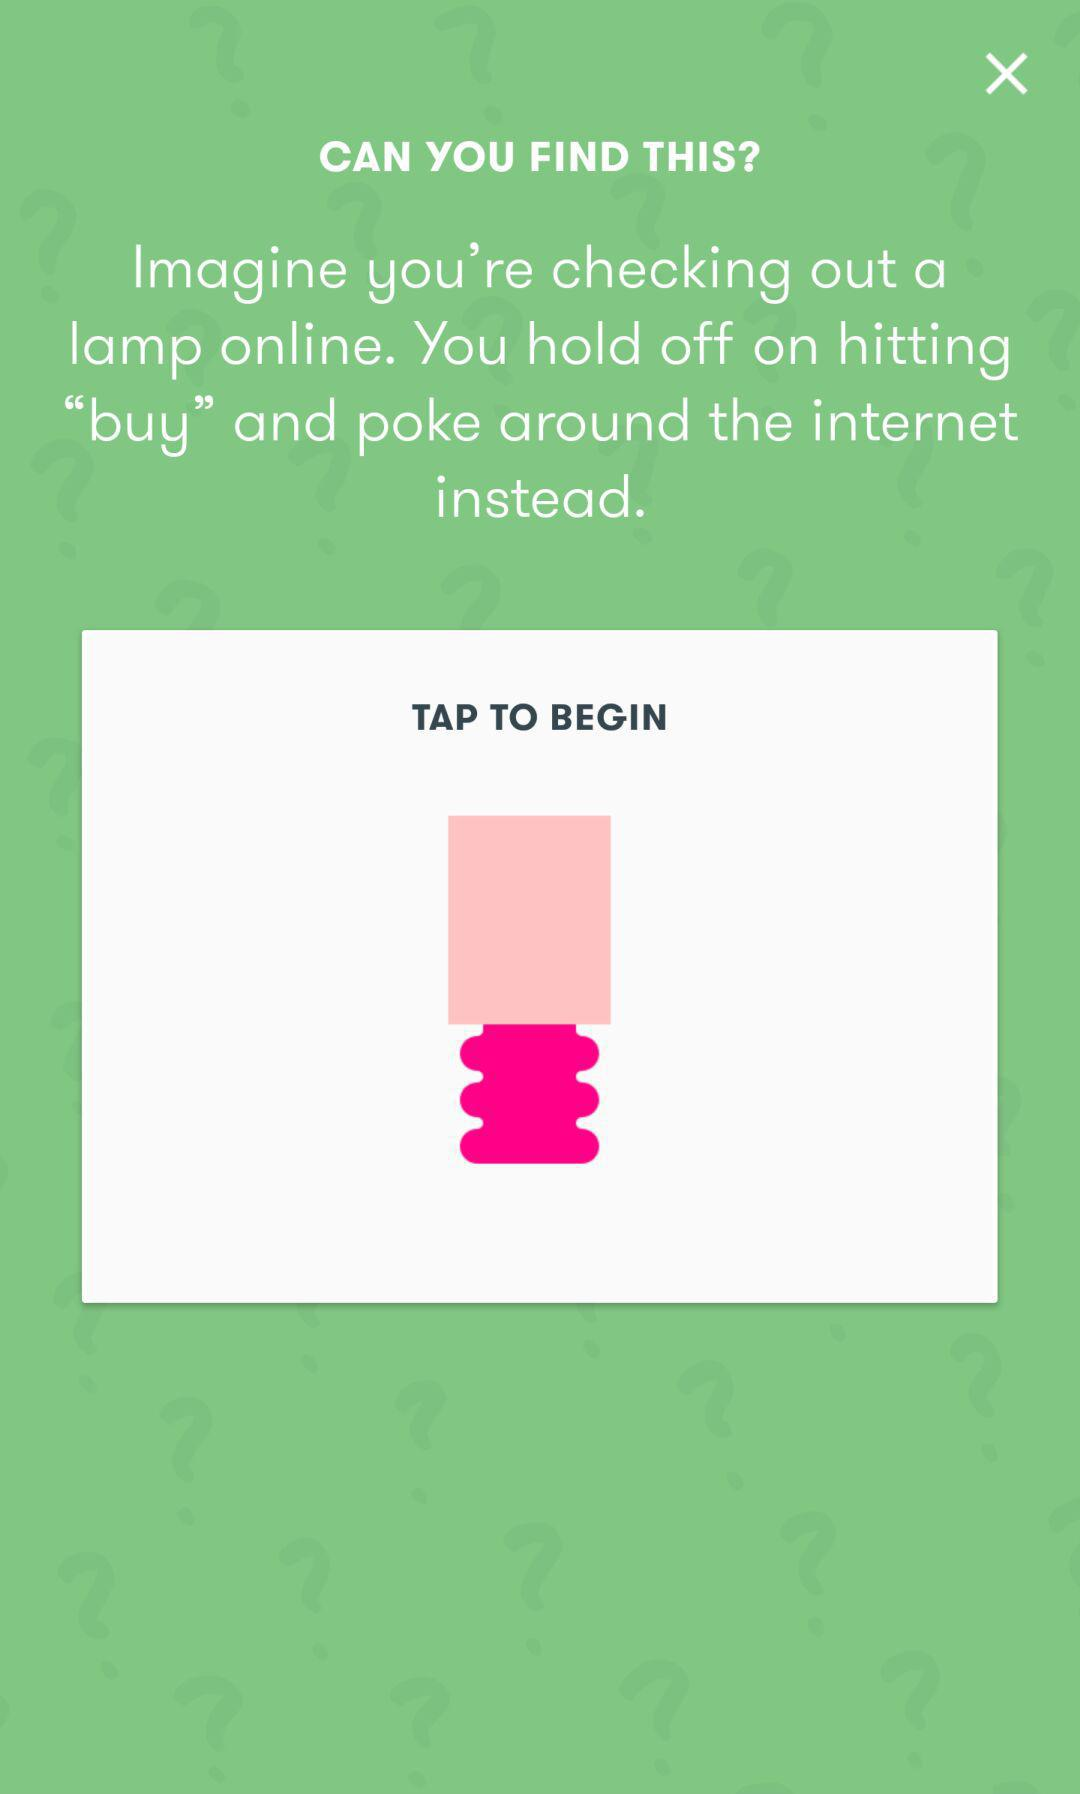BackgroundImage: (1, 1, 1080, 1794)
Icon: (984, 53, 1029, 97)
Image: (448, 815, 612, 1165)
Text: (64, 243, 1019, 520), (320, 141, 761, 174), (413, 704, 667, 732)
